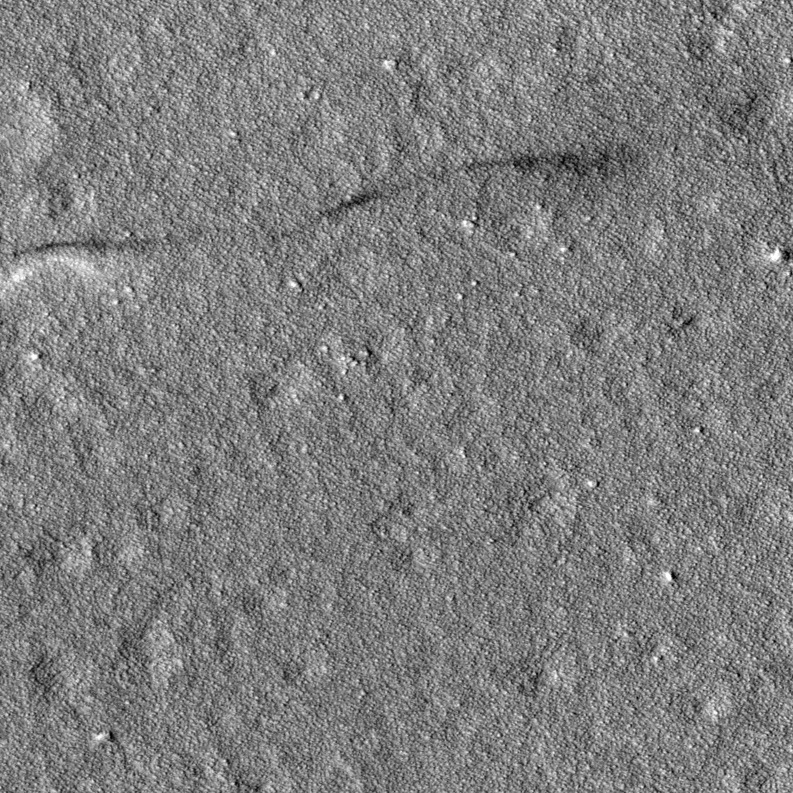dust_devil: (5, 232, 154, 284)
